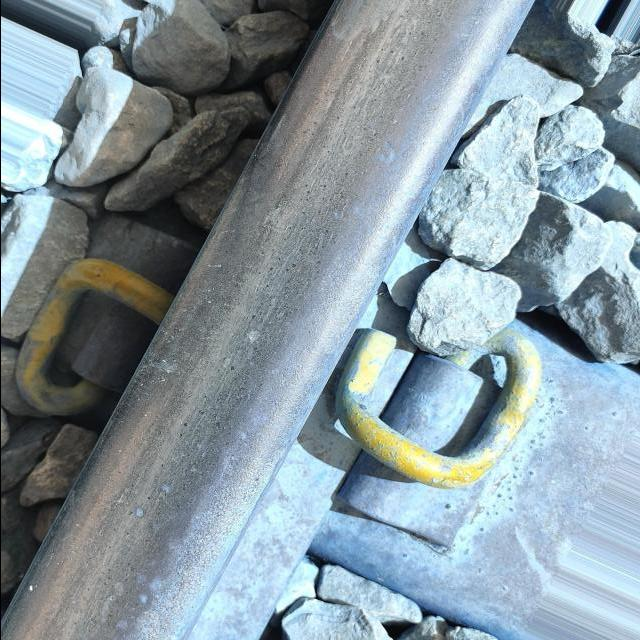squats_high: (135, 568, 163, 606), (377, 150, 399, 168), (244, 327, 262, 344), (156, 482, 174, 495), (130, 506, 146, 518)
